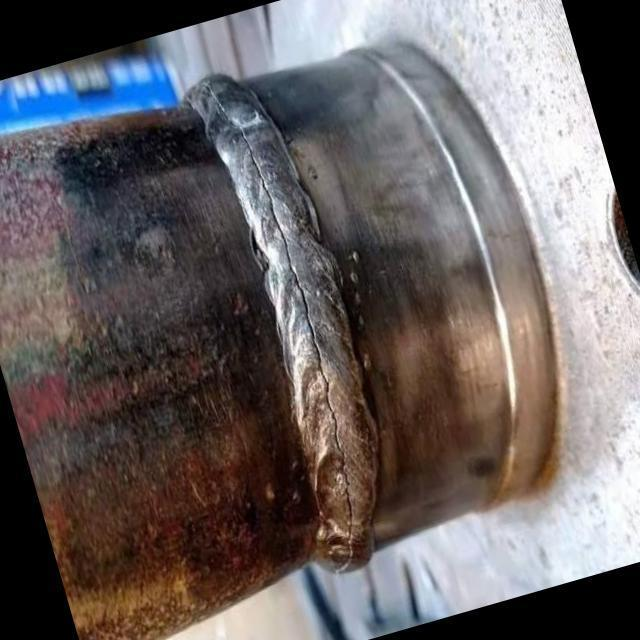defect: (203, 70, 359, 575)
